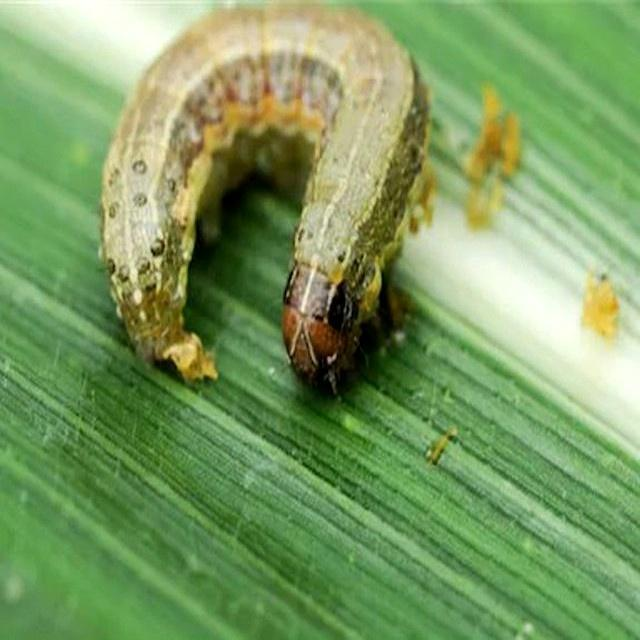gusano_cogollero: (96, 0, 432, 399)
